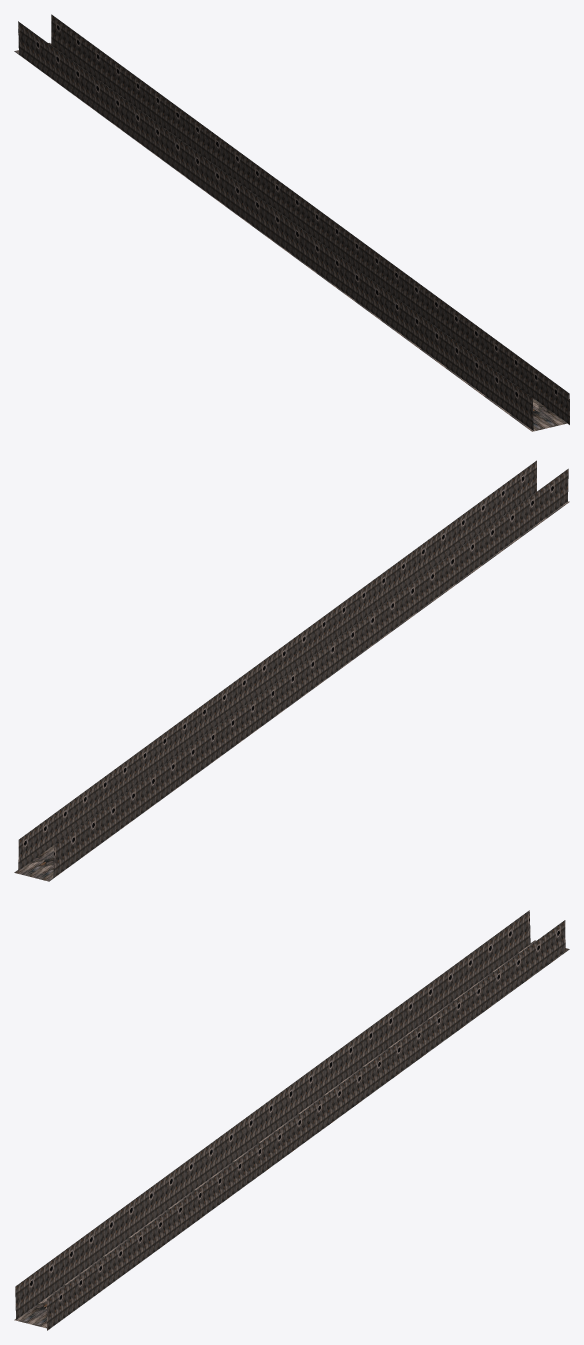
The model's file is shipwreckscene.fbx.
The picture shows the model from 3 angles, top to bottom: view 1: azimuth 30°, elevation 25°; view 2: azimuth 150°, elevation 25°; view 3: azimuth 330°, elevation 25°; orthographic projection.
Visible parts, largest first — view 1: polySurface115; view 2: polySurface115; view 3: polySurface115.
Part boxes in pixels (x1,y1,x2,y2): polySurface115: (14,14,569,431); polySurface115: (14,460,569,881); polySurface115: (14,910,569,1330).
Size of the model in its own units: 25.7 by 22.6 by 629.
Materials: 3 (3 with a texture image).
